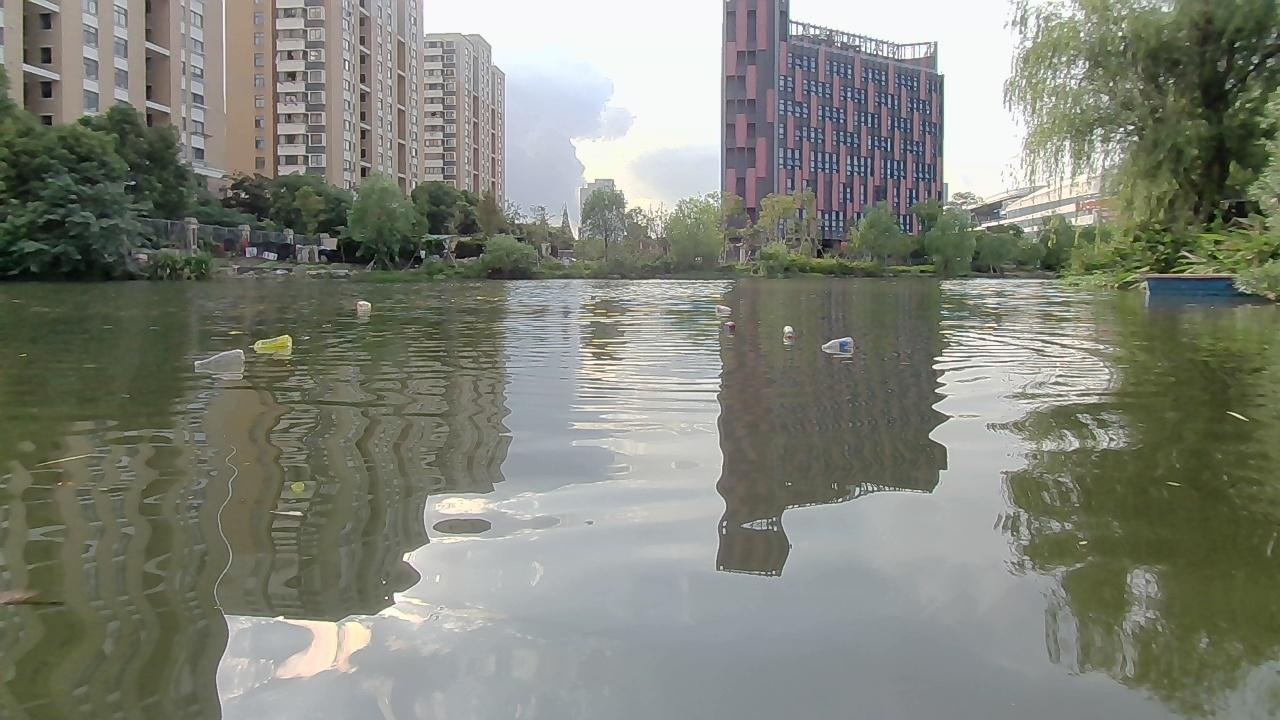bottle: (195, 346, 244, 372), (250, 328, 296, 353), (821, 336, 855, 353), (777, 321, 798, 344), (721, 312, 741, 332), (351, 297, 374, 313), (713, 299, 730, 318)
